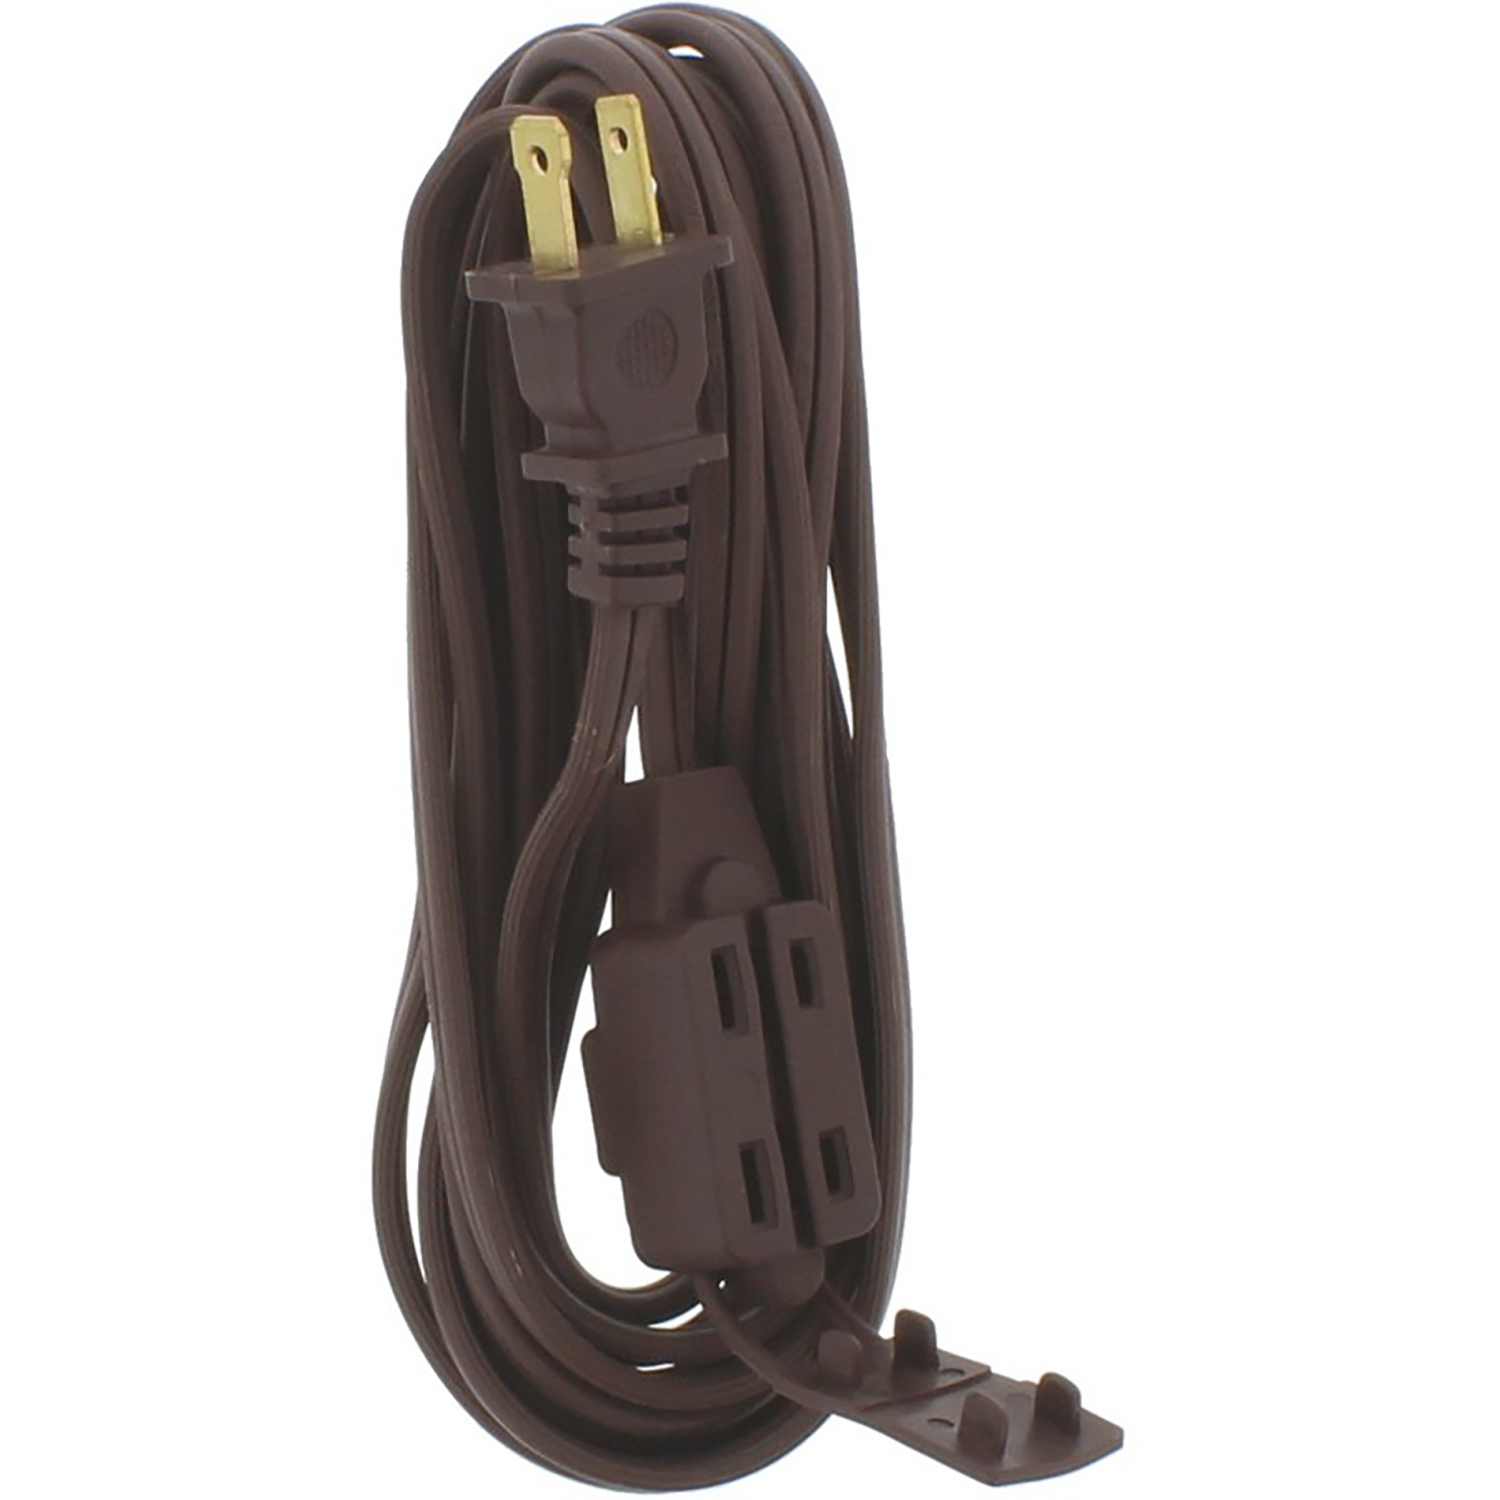Nonrec_Tangler: (158, 1, 1137, 1488)
